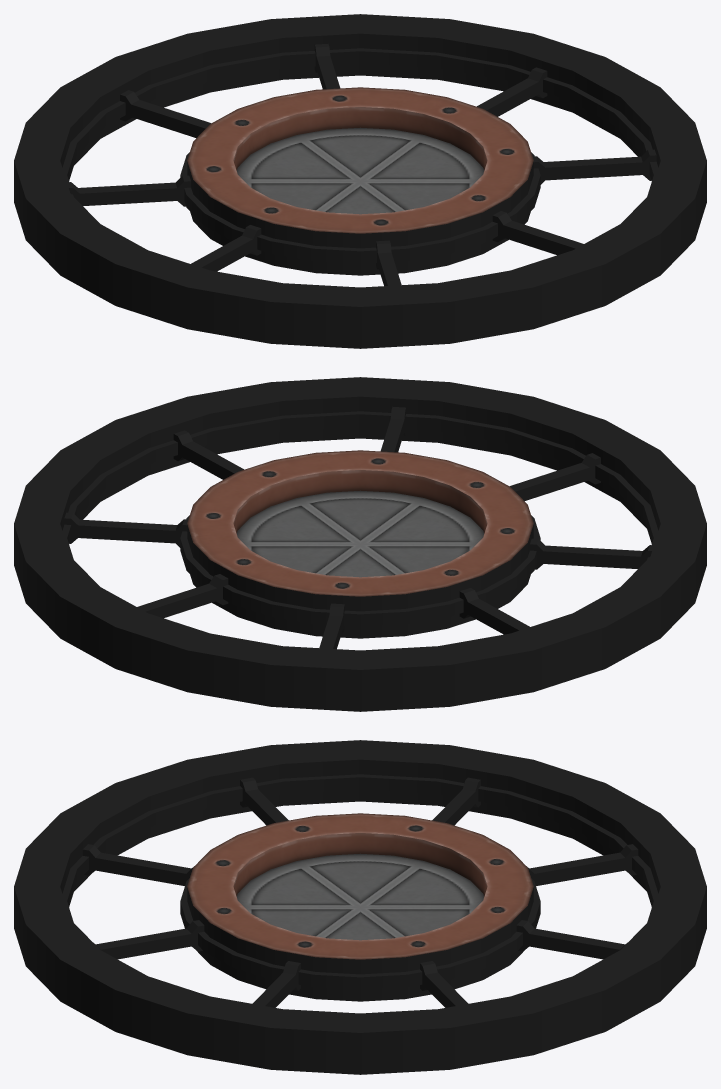
Rendered from aquarius_engine_mount_s1p5_s0p5_1.obj.
The picture shows the model from 3 angles, top to bottom: view 1: azimuth 30°, elevation 25°; view 2: azimuth 150°, elevation 25°; view 3: azimuth 270°, elevation 25°; orthographic projection.
Parts seen in each view (by area): view 1: aquarius_engine_mount_s1p5_s0p5_1; view 2: aquarius_engine_mount_s1p5_s0p5_1; view 3: aquarius_engine_mount_s1p5_s0p5_1.
Part boxes in pixels (left/top/right/bottom): aquarius_engine_mount_s1p5_s0p5_1: left=14, top=14, right=706, bottom=348; aquarius_engine_mount_s1p5_s0p5_1: left=14, top=377, right=706, bottom=711; aquarius_engine_mount_s1p5_s0p5_1: left=14, top=740, right=706, bottom=1074.
Bounding box in the file's own units: 1.88 × 0.125 × 1.88.
